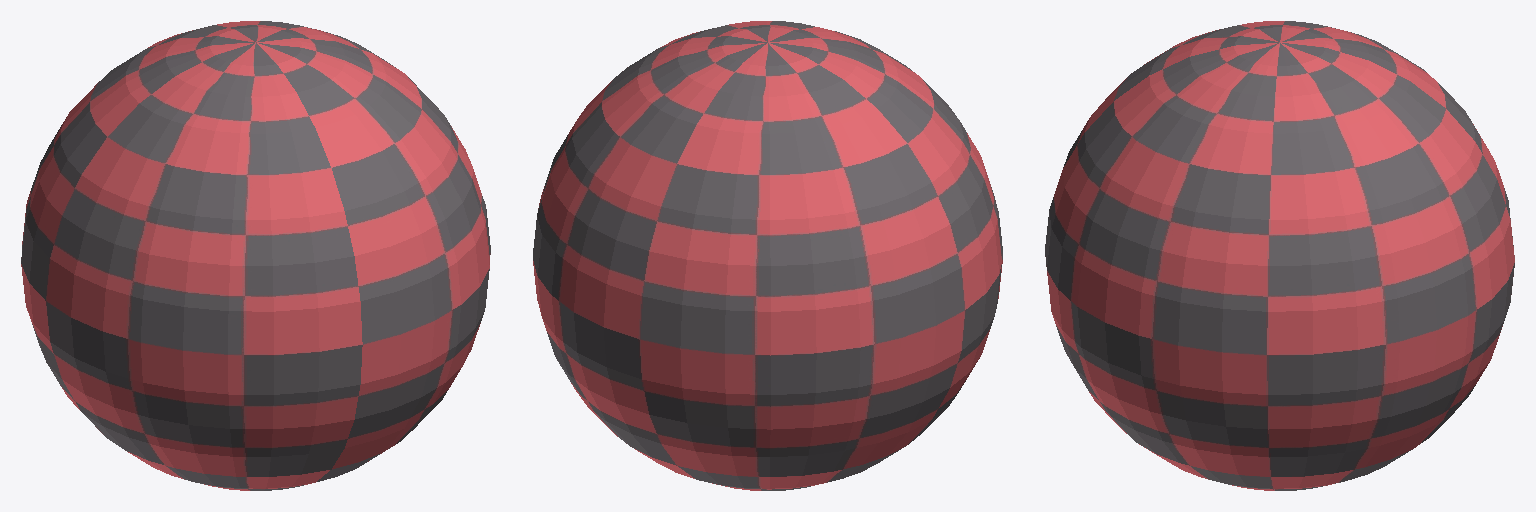
The picture shows the model from 3 angles: view 1: azimuth 30°, elevation 25°; view 2: azimuth 150°, elevation 25°; view 3: azimuth 270°, elevation 25°; orthographic projection.
Parts seen in each view (by area): view 1: moon; view 2: moon; view 3: moon.
Part boxes in pixels (x1,y1,x2,y2): moon: (21, 21, 490, 490); moon: (533, 21, 1002, 490); moon: (1045, 21, 1514, 490).
Size of the model in its own units: 2 by 2 by 2.
Materials: 1 (1 with a texture image).